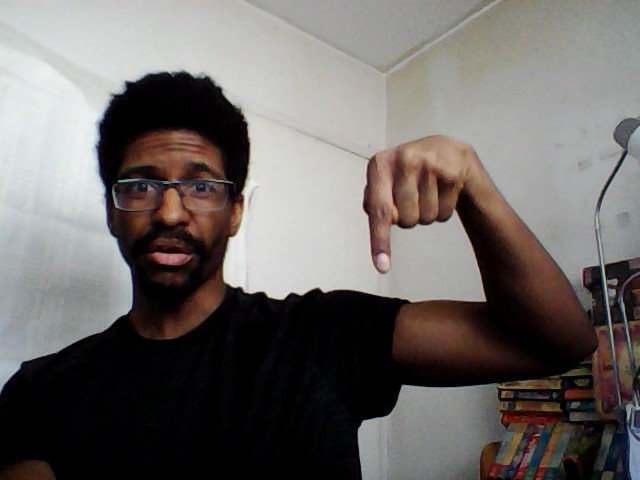q: (360, 131, 483, 280)
